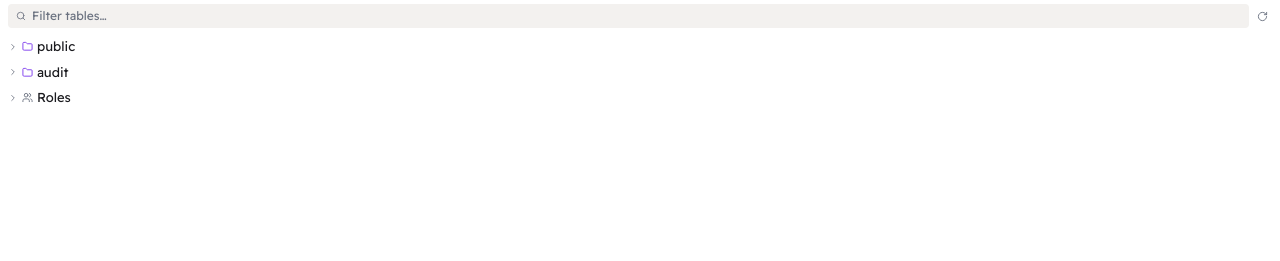
Test: lazy expansion › fetches a table's columns only once that table is expanded
The width and height of the screenshot is (1280, 261).
Expected: the text "public" is shown, [37,38,75,54]
Click the button named "Expand" next to "public".
click(13, 47)  # box [8,42,18,52]
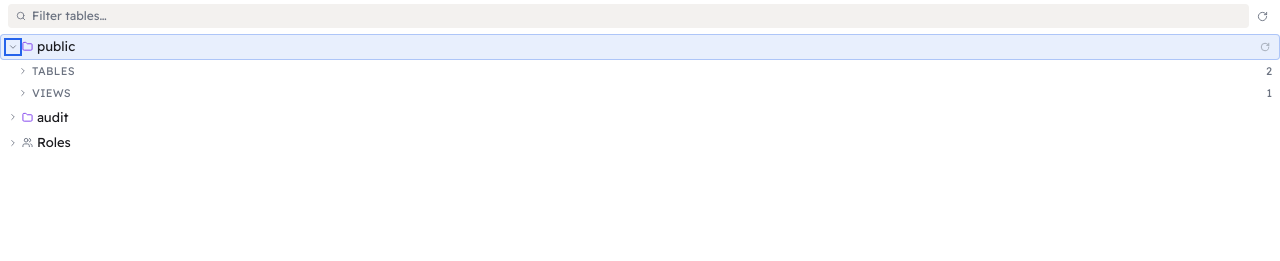
Expected: the text "Tables" is shown, [32,64,75,78]
Click the button named "Expand" next to "Tables".
click(23, 71)  # box [18,66,28,76]
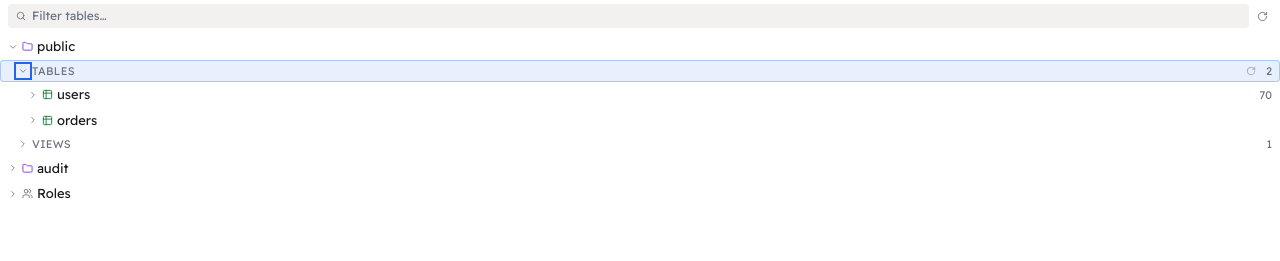
Expected: the text "users" is shown, [57,86,90,102]
Expected: the text "orders" is shown, [57,112,97,128]
Click the button named "Expand" next to "users".
click(33, 95)  # box [28,90,38,100]
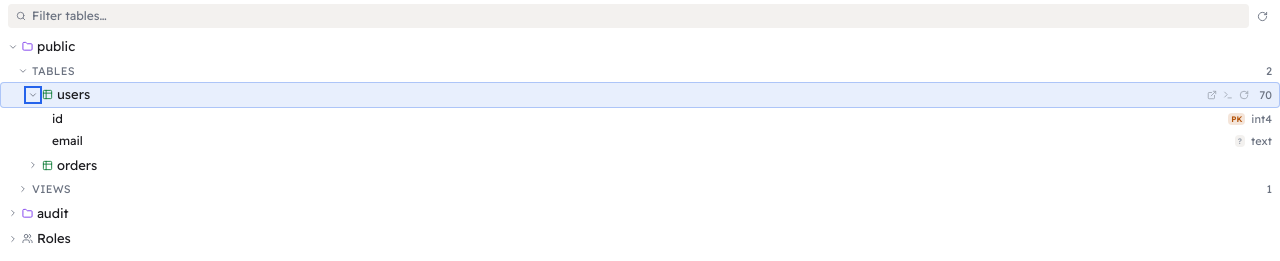
Expected: the text "email" is shown, [52,133,83,148]
